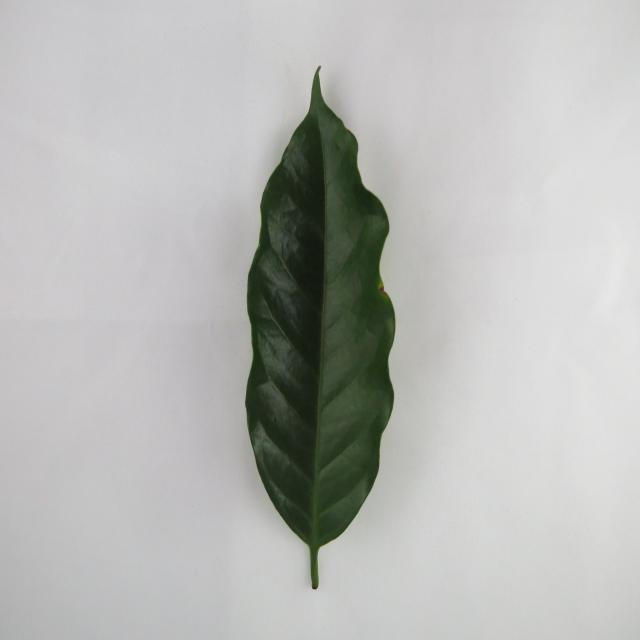DeficienciaNutricional-Calcio: (246, 68, 395, 588)
